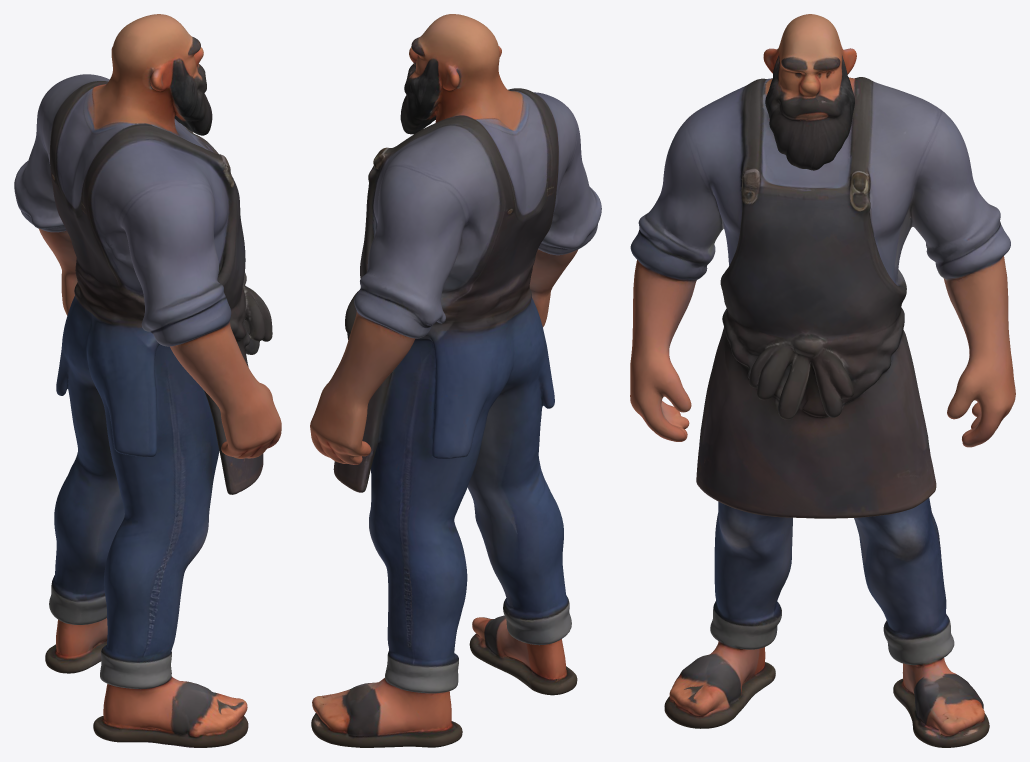
Rendered from kirill_raw.glb.
The picture shows the model from 3 angles, left to right: view 1: azimuth 30°, elevation 25°; view 2: azimuth 150°, elevation 25°; view 3: azimuth 270°, elevation 25°; orthographic projection. The views are drawn at different scales.
Parts seen in each view (by area): view 1: tripo_node_14f261ba-24c2-4c4f-a5ad-52473ec4cd76; view 2: tripo_node_14f261ba-24c2-4c4f-a5ad-52473ec4cd76; view 3: tripo_node_14f261ba-24c2-4c4f-a5ad-52473ec4cd76.
Part boxes in pixels (left/top/right/bottom): tripo_node_14f261ba-24c2-4c4f-a5ad-52473ec4cd76: left=14, top=14, right=281, bottom=747; tripo_node_14f261ba-24c2-4c4f-a5ad-52473ec4cd76: left=310, top=14, right=601, bottom=747; tripo_node_14f261ba-24c2-4c4f-a5ad-52473ec4cd76: left=630, top=14, right=1015, bottom=747.
Size of the model in its own units: 0.272 by 0.9492 by 0.4789.
Materials: 1 (1 with a texture image).
